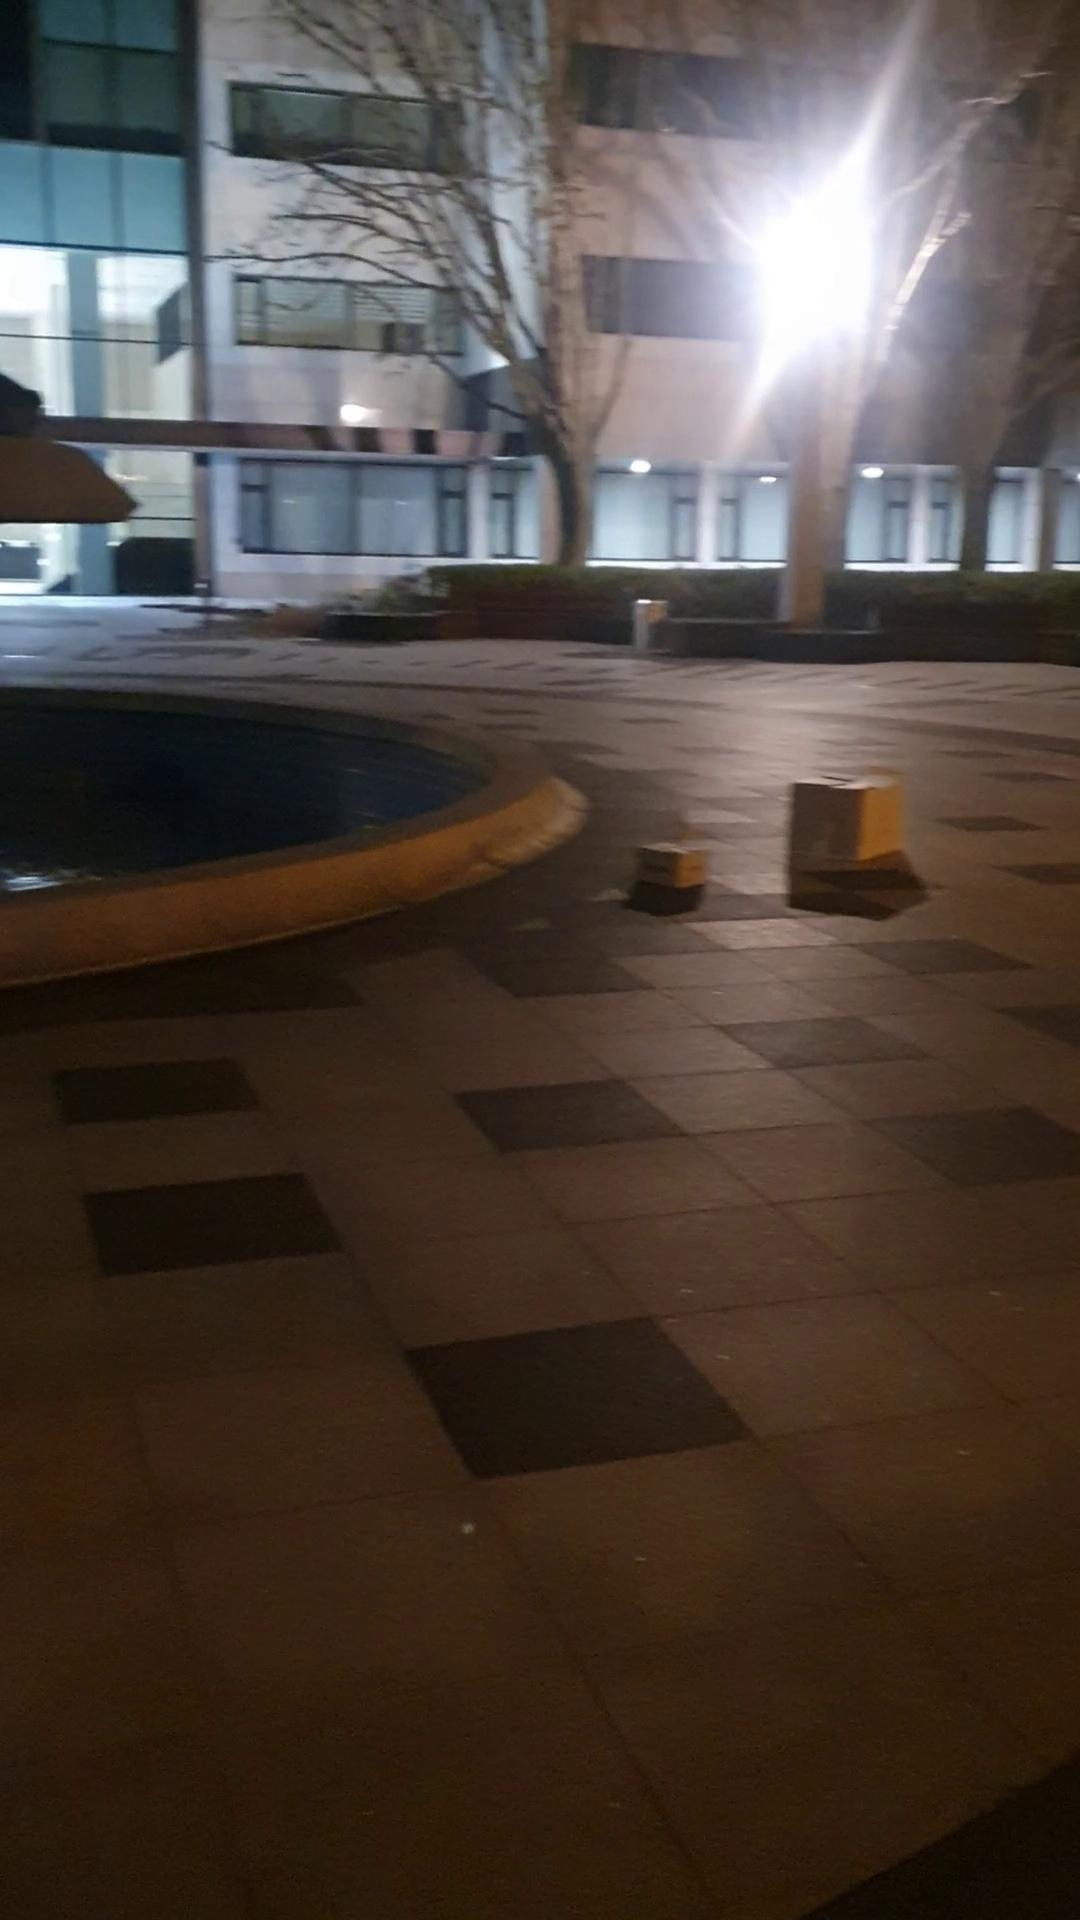Box: (771, 750, 920, 891), (633, 828, 704, 903)
